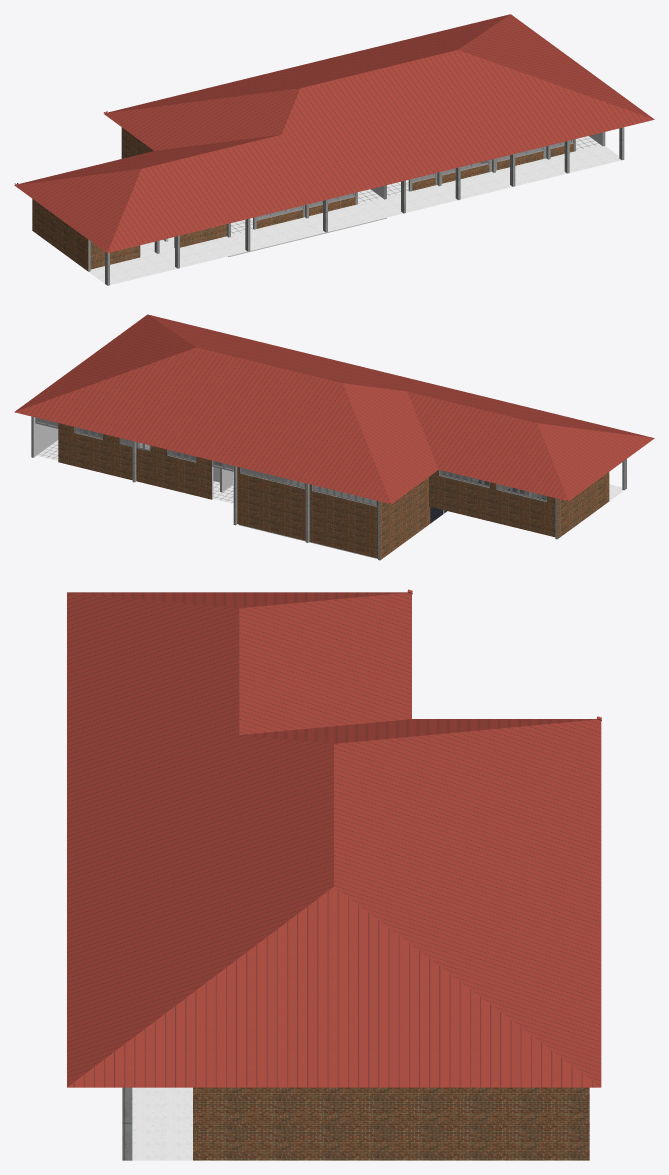
The model's file is Laboratorios.fbx.
3 renders of one model, top to bottom at view 1: azimuth 30°, elevation 25°; view 2: azimuth 150°, elevation 25°; view 3: azimuth 270°, elevation 25°, orthographic. The views are drawn at different scales.
Parts seen in each view (by area): view 1: Labpratorios; view 2: Labpratorios; view 3: Labpratorios.
Boxes of the visible parts, x1,y1,x2,y2 form: Labpratorios: (14, 14, 654, 285); Labpratorios: (14, 314, 654, 560); Labpratorios: (67, 589, 601, 1160).
Size of the model in its own units: 3515 by 714 by 1605.
14 materials, 10 textured.
